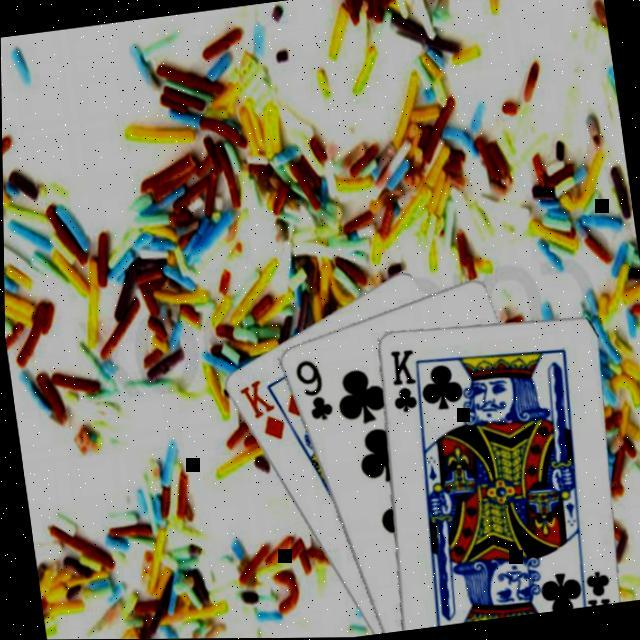9C: (290, 356, 337, 428)
KC: (384, 346, 430, 426), (571, 560, 615, 608)
KD: (235, 374, 290, 449)
